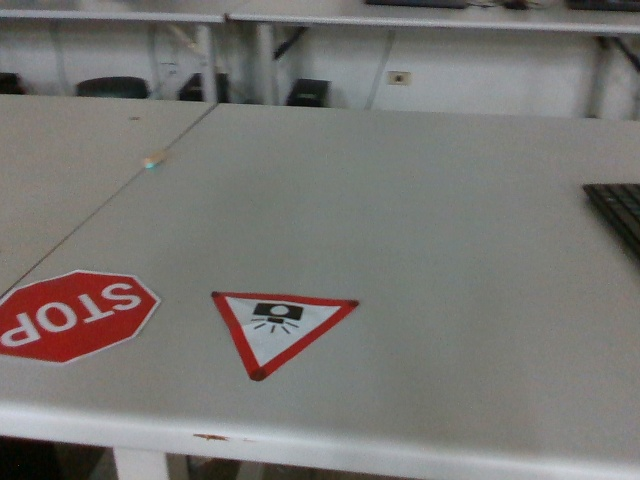camera: (207, 282, 360, 383)
stop: (4, 267, 162, 369)
